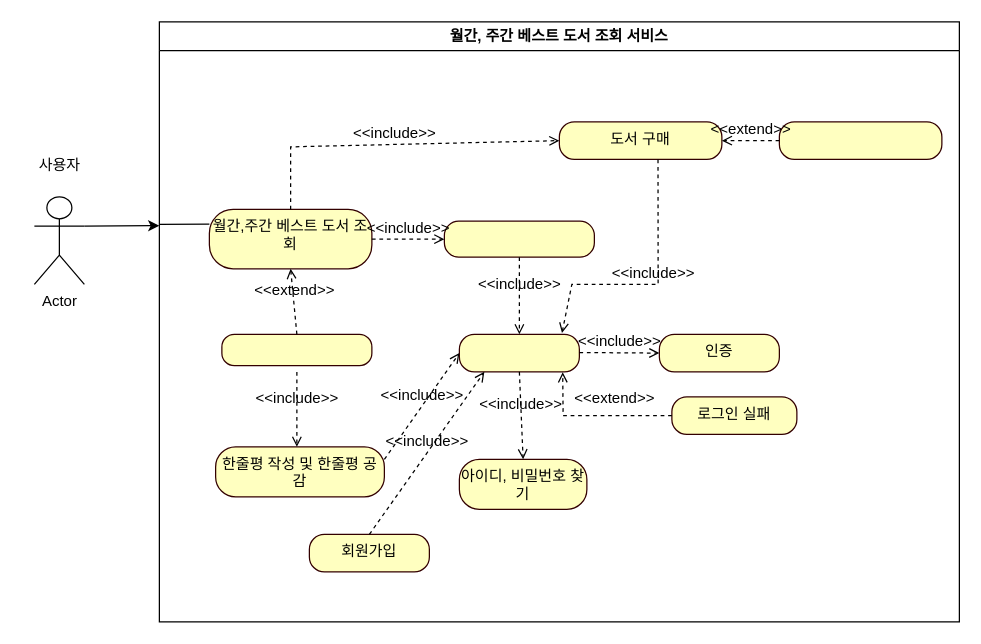
The diagram is 981 pixels wide and 644 high, and some of its shapes have lost their labels. Each missing label, with the centre of its shape:
"관심 도서 추가" goes at pixel 518 238.
"도서 구매 링크 연결" goes at pixel 860 140.
"로그인" goes at pixel 518 352.
"베스트 한줄평 조회" goes at pixel 296 349.
